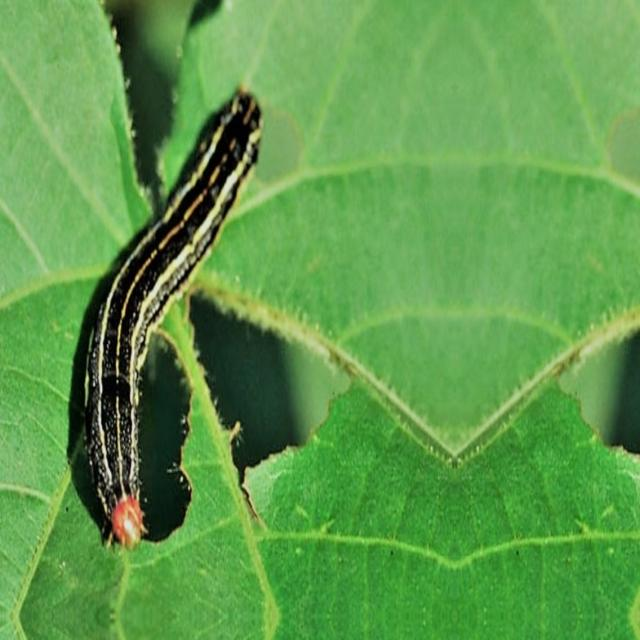armyworm: (72, 83, 264, 551)
